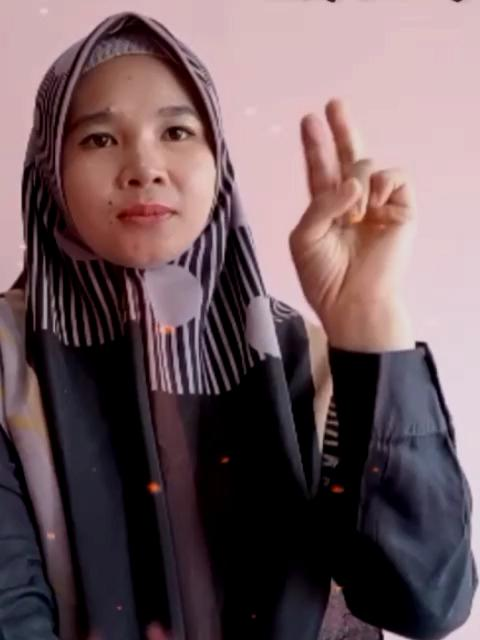U: (284, 90, 416, 318)
